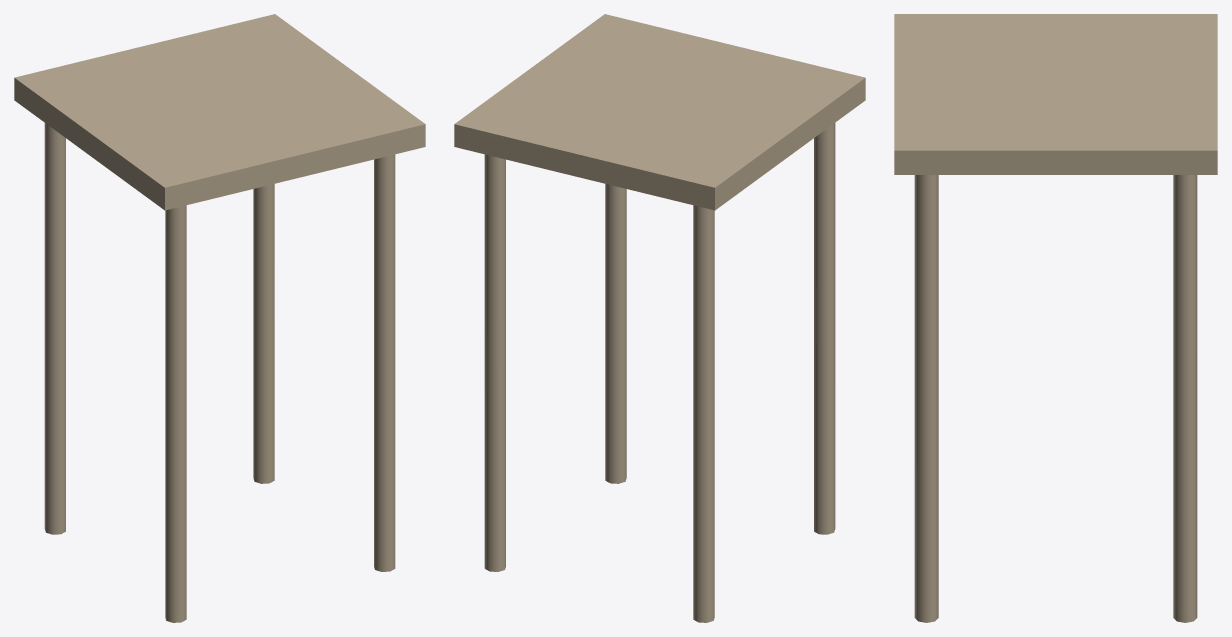
File: lookout.glb
3 renders of one model, left to right at view 1: azimuth 30°, elevation 25°; view 2: azimuth 150°, elevation 25°; view 3: azimuth 270°, elevation 25°, orthographic. The views are drawn at different scales.
Parts seen in each view (by area): view 1: platform, leg-1.2-1.2, leg--1.2-1.2, leg--1.2--1.2, leg-1.2--1.2; view 2: platform, leg-1.2--1.2, leg--1.2--1.2, leg--1.2-1.2, leg-1.2-1.2; view 3: platform, leg-1.2--1.2, leg-1.2-1.2.
Part boxes in pixels (left/top/right/bottom): platform: left=14, top=14, right=425, bottom=210; leg-1.2-1.2: left=374, top=154, right=395, bottom=571; leg--1.2-1.2: left=165, top=205, right=186, bottom=622; leg--1.2--1.2: left=44, top=123, right=65, bottom=534; leg-1.2--1.2: left=253, top=184, right=274, bottom=483; platform: left=454, top=14, right=865, bottom=210; leg-1.2--1.2: left=484, top=154, right=505, bottom=571; leg--1.2--1.2: left=693, top=205, right=714, bottom=622; leg--1.2-1.2: left=814, top=123, right=835, bottom=534; leg-1.2-1.2: left=605, top=184, right=626, bottom=483; platform: left=894, top=14, right=1217, bottom=174; leg-1.2--1.2: left=1173, top=175, right=1197, bottom=622; leg-1.2-1.2: left=914, top=175, right=938, bottom=622.
Size of the model in its own units: 3 by 4.92 by 3.
